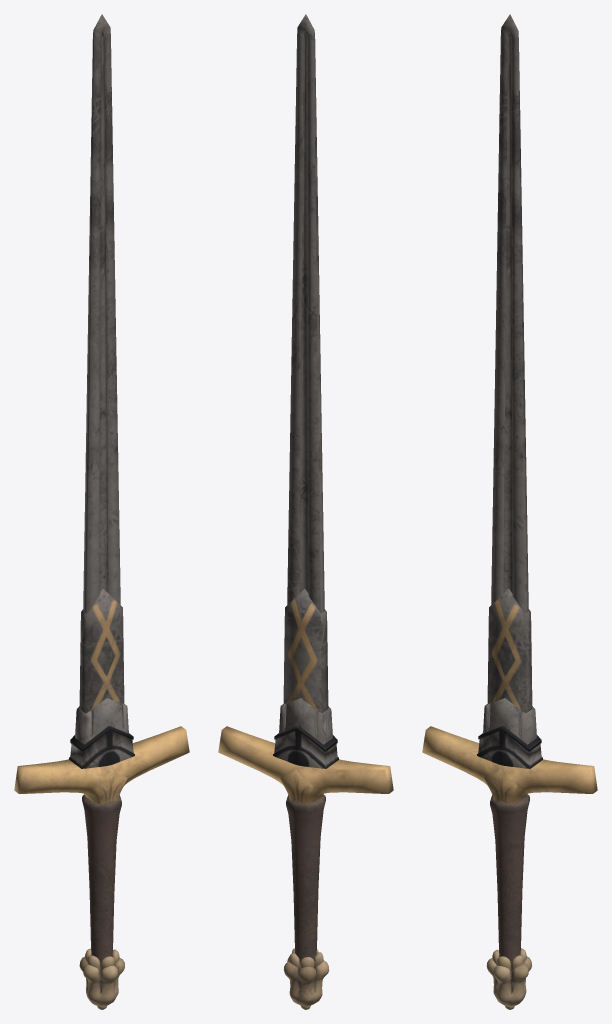
Rendered from Sword.FBX.
The picture shows the model from 3 angles, left to right: view 1: azimuth 30°, elevation 25°; view 2: azimuth 150°, elevation 25°; view 3: azimuth 330°, elevation 25°; orthographic projection.
Parts seen in each view (by area): view 1: sword; view 2: sword; view 3: sword.
Boxes of the visible parts, left/top/right/bottom form: sword: left=14, top=14, right=189, bottom=1009; sword: left=218, top=14, right=393, bottom=1009; sword: left=422, top=14, right=597, bottom=1009.
Bounding box in the file's own units: 0.2039 × 1.14 × 0.0465.
